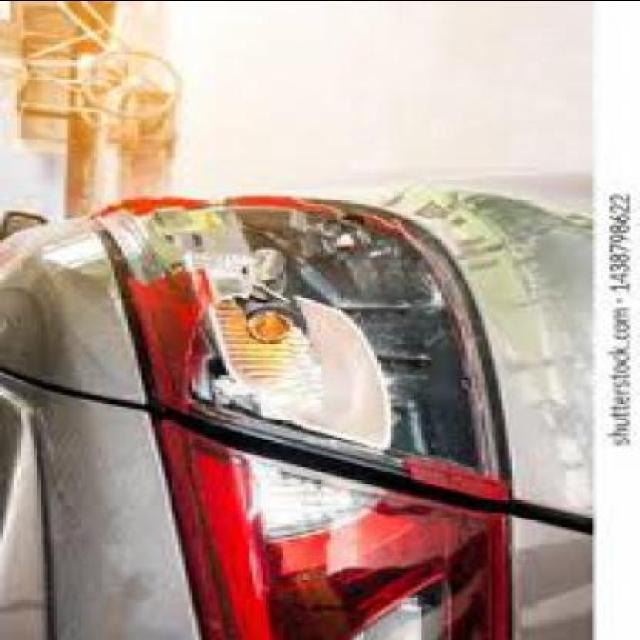Signlight-Damage: (190, 238, 402, 431)
Taillight-Damage: (96, 196, 476, 633)
